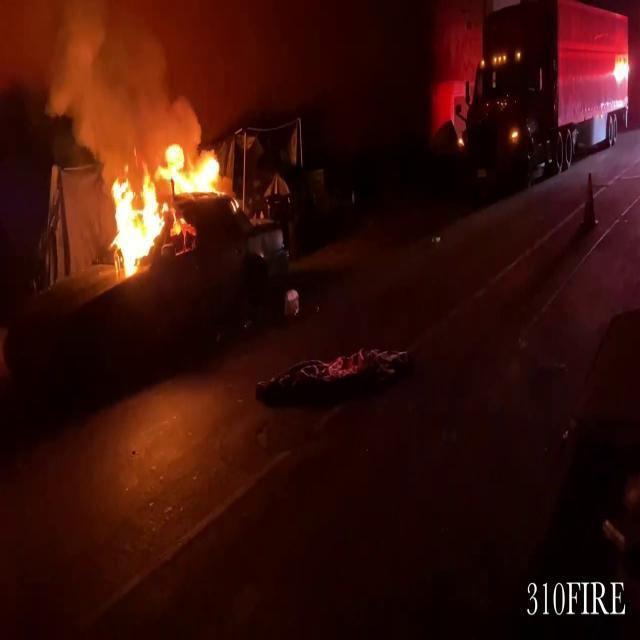Fire: (104, 137, 228, 279)
Smoke: (0, 0, 196, 135)
